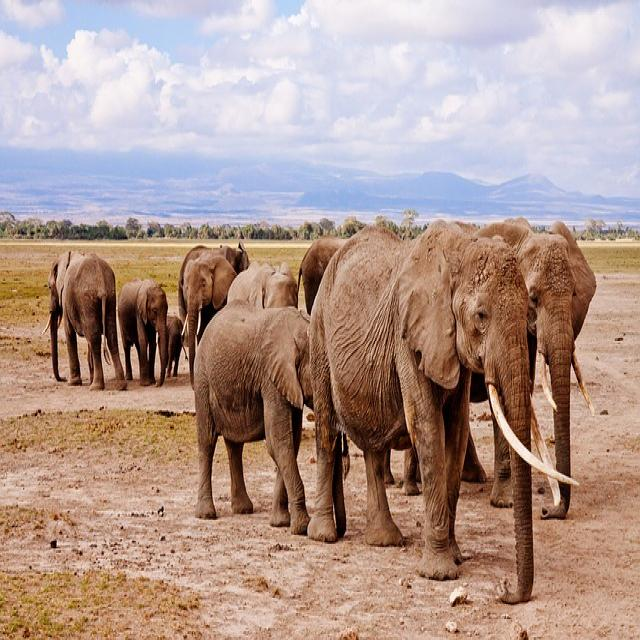elephant: (307, 219, 532, 581), (474, 222, 596, 478), (191, 303, 316, 536), (48, 252, 118, 389), (177, 246, 251, 358), (116, 279, 169, 383)
